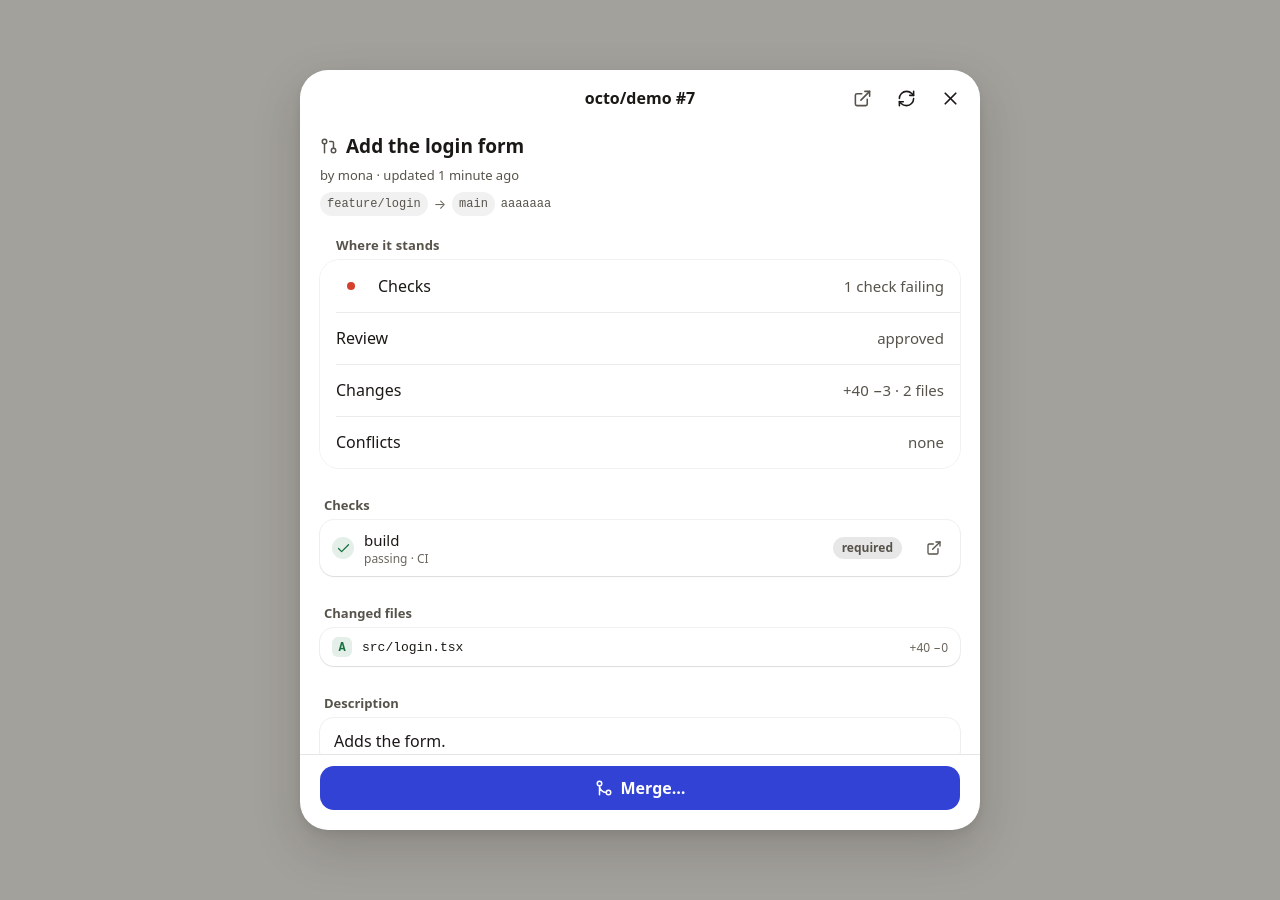
Test: the pull-request sheet › keeps the merge button off until failing optional checks are acknowledged
The image size is (1280, 900).
Click the button "Merge…". click: (640, 788)
box: left=320, top=766, right=960, bottom=810
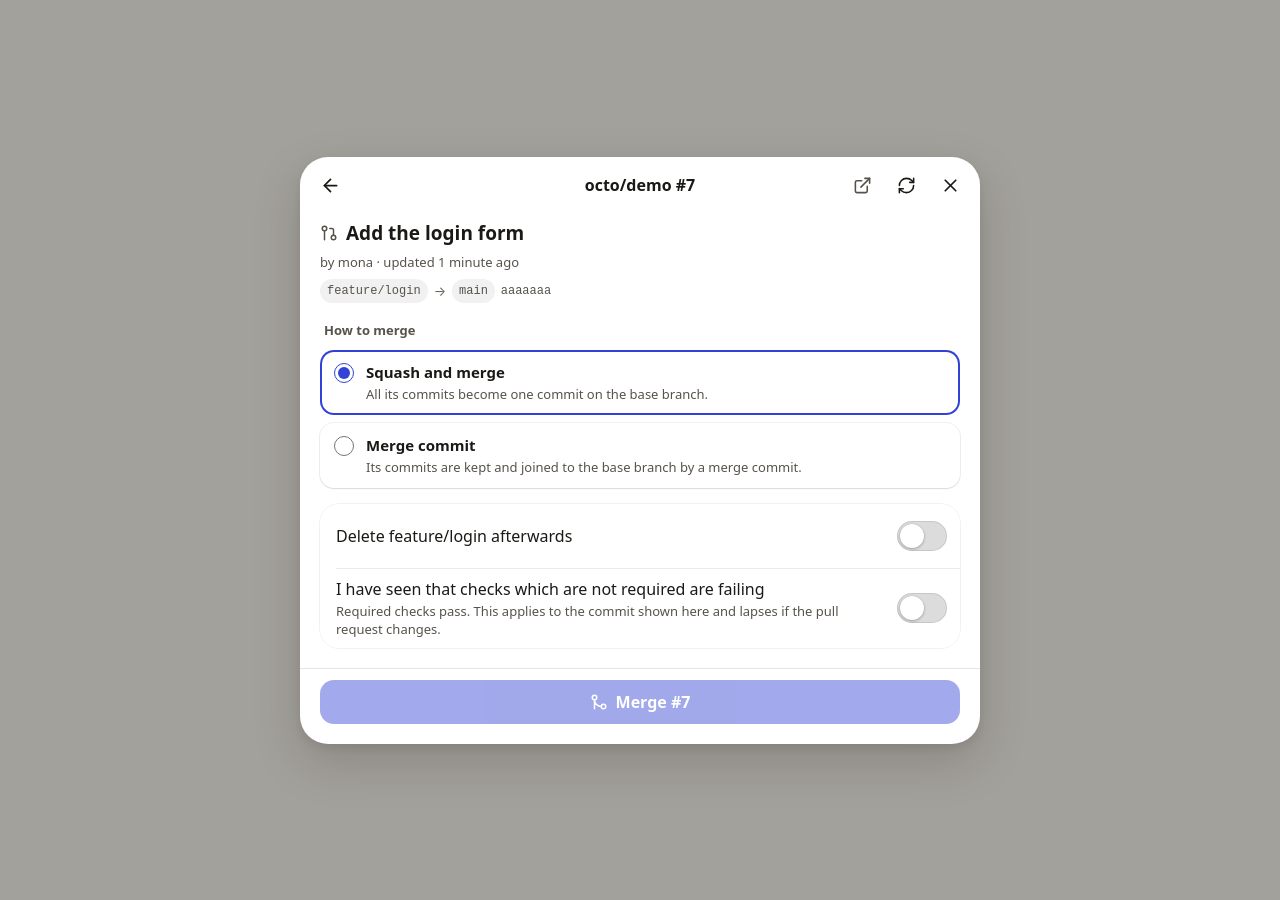
Now the button "Merge #7" is disabled, box left=320, top=680, right=960, bottom=724
Click the 2nd switch. click: (922, 608)
box: left=894, top=586, right=950, bottom=630
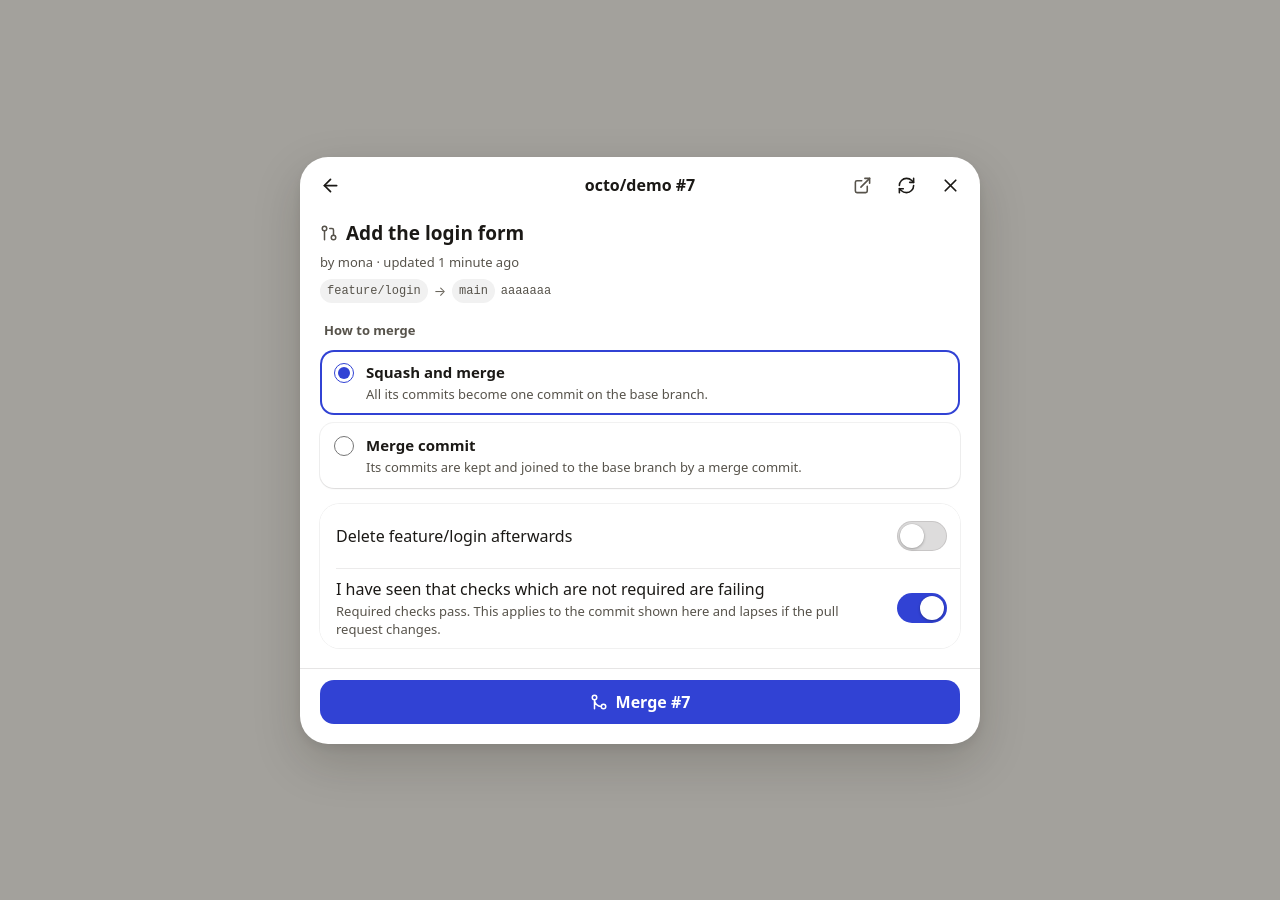
Now the button "Merge #7" is enabled, box left=320, top=680, right=960, bottom=724
